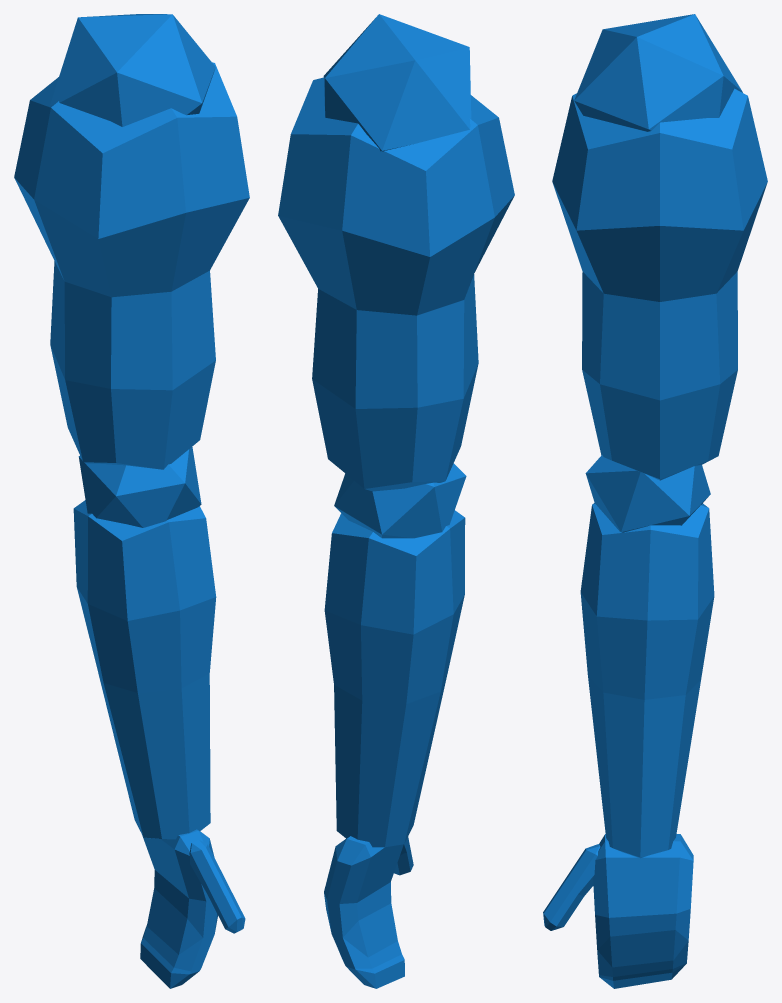
File: right_arm.fbx
3 renders of one model, left to right at view 1: azimuth 30°, elevation 25°; view 2: azimuth 150°, elevation 25°; view 3: azimuth 270°, elevation 25°, orthographic.
Parts seen in each view (by area): view 1: RIGHT_SHOULDER; view 2: RIGHT_SHOULDER; view 3: RIGHT_SHOULDER.
Boxes of the visible parts, x1,y1,x2,y2 form: RIGHT_SHOULDER: (14, 14, 249, 988); RIGHT_SHOULDER: (278, 14, 514, 988); RIGHT_SHOULDER: (543, 14, 767, 988).
Bounding box in the file's own units: 0.2741 × 1.29 × 0.2761.
